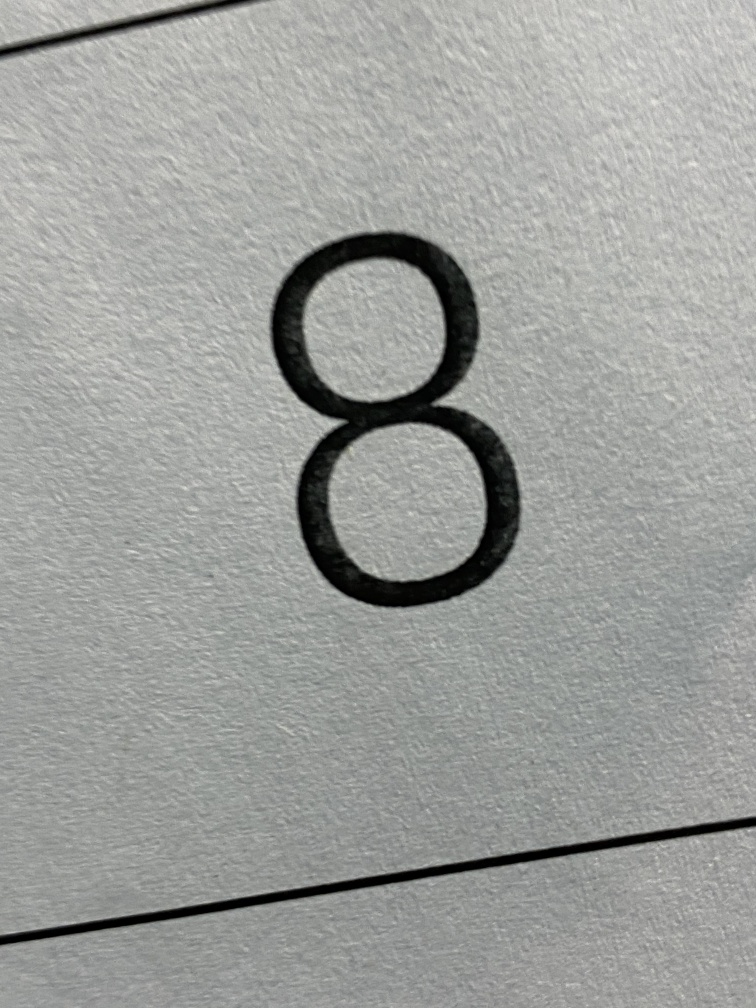eight: (201, 180, 586, 673)
